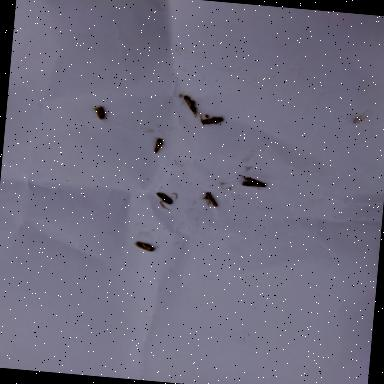pbw: (236, 174, 268, 191), (182, 94, 199, 118), (155, 192, 174, 211), (135, 240, 159, 252), (201, 114, 224, 126), (202, 192, 219, 208), (152, 136, 164, 156), (92, 105, 105, 120)
